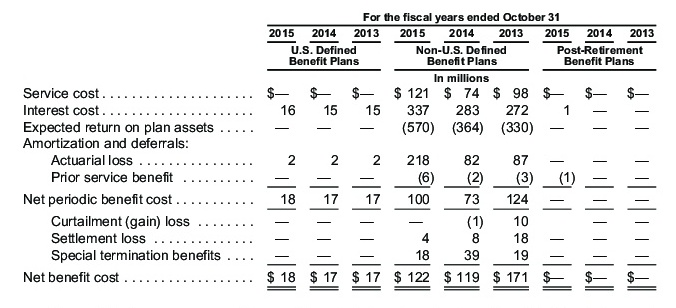table: (0, 0, 676, 308)
